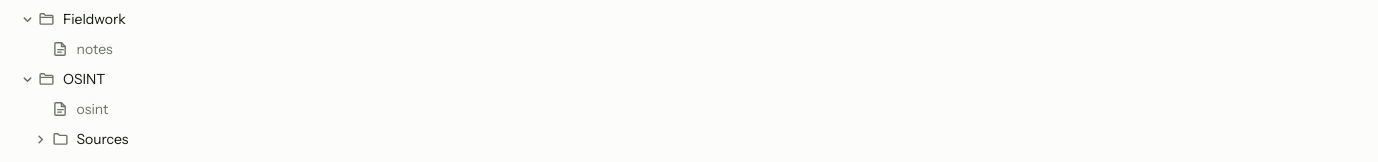
Test: publishing a folder as a book › is a folder's menu item, not a note's
Right-click the button "osint" at (92, 109), box [50, 94, 1372, 123]
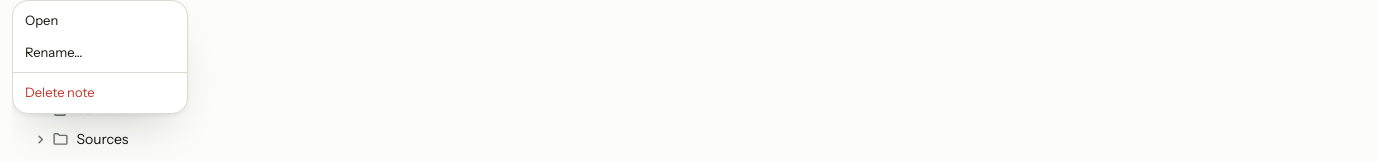
Check: the menu item "Rename…" is shown, box [13, 36, 187, 68]
